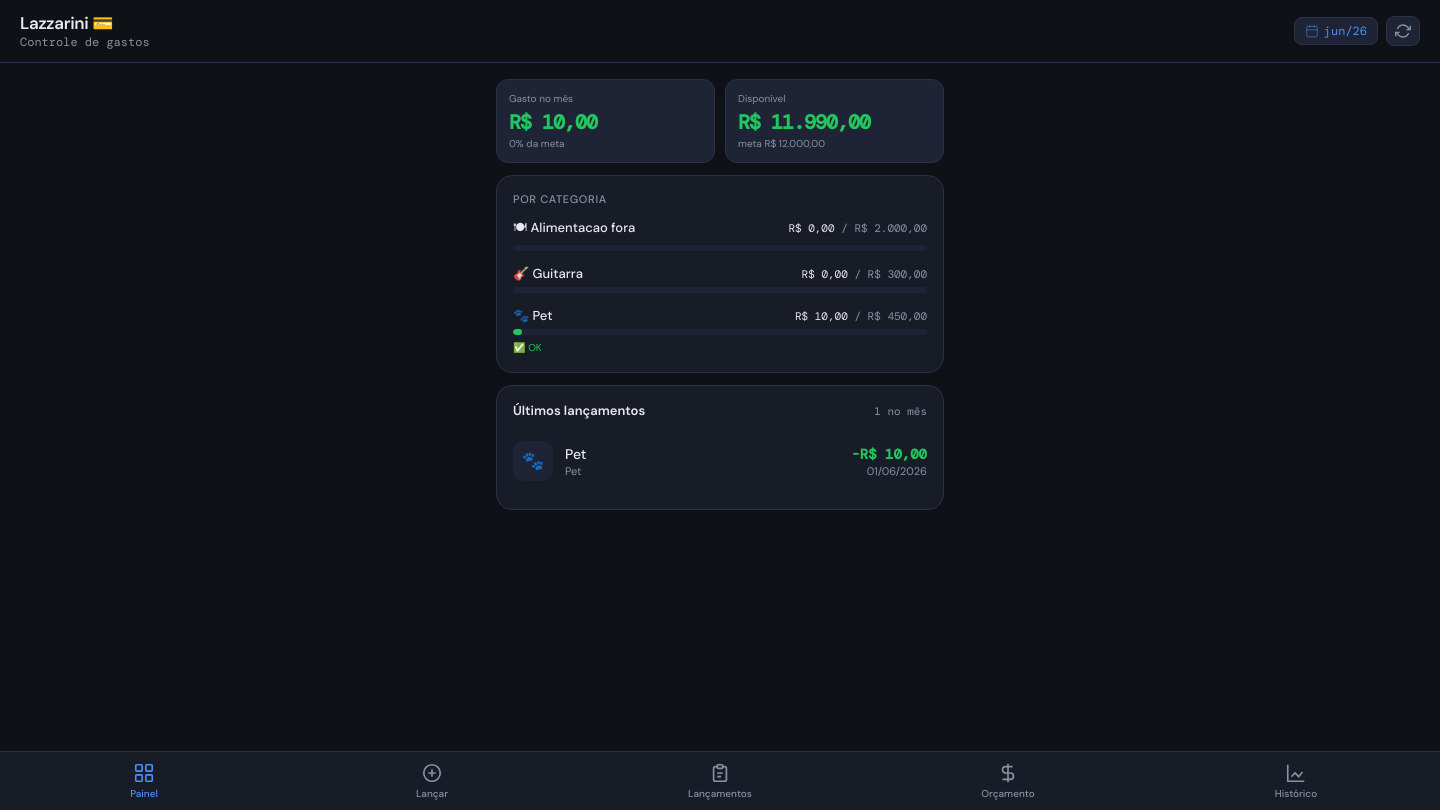
Lançamentos › excluir pela lixeira não abre o detalhe; erro mostra toast
The width and height of the screenshot is (1440, 810).
Expected: the text "Por categoria" is shown, left=513, top=192, right=607, bottom=206
Click the button "Lançamentos": (720,781) left=576, top=752, right=864, bottom=809
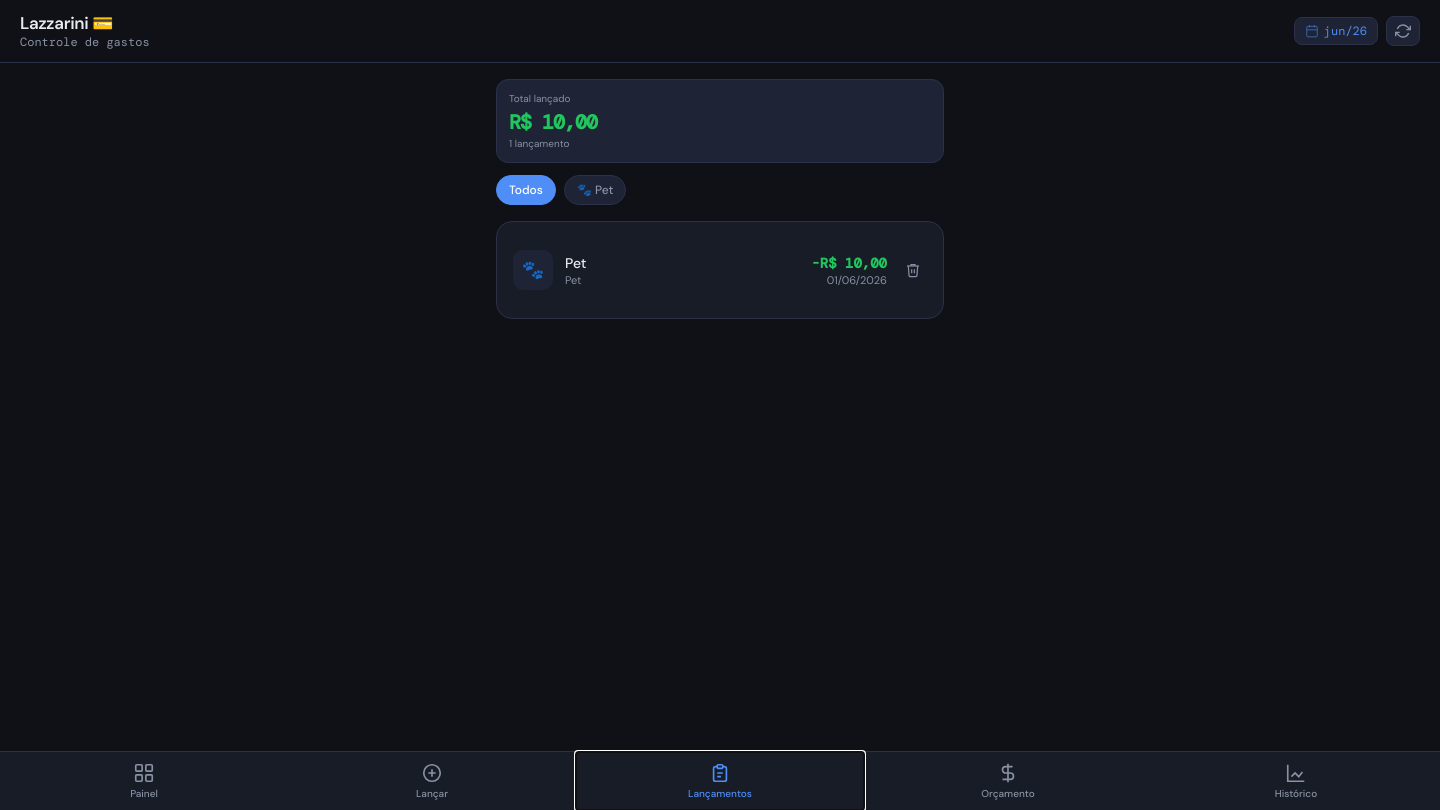
Click the button named "Excluir": (913,270) left=899, top=256, right=927, bottom=284
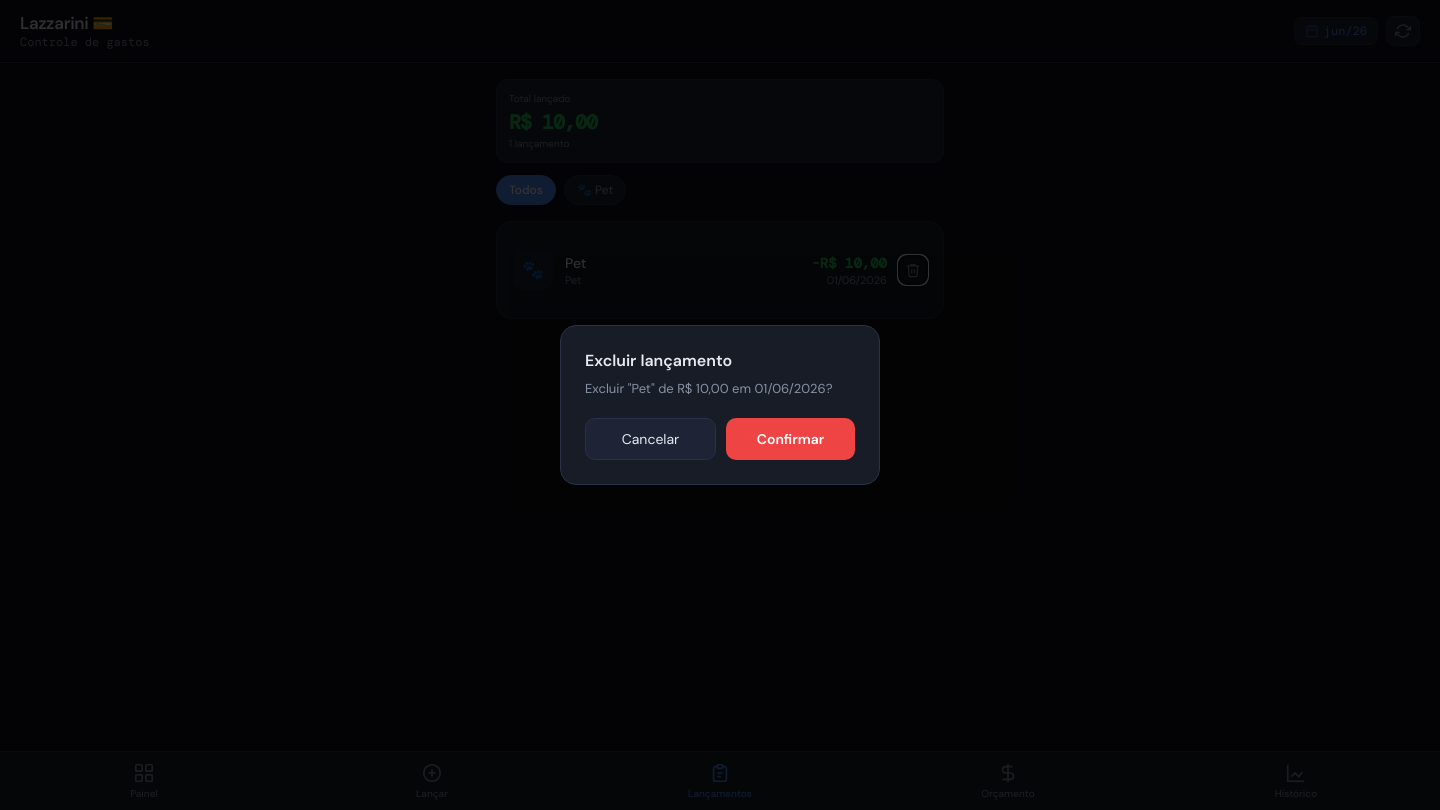
Click the button "Confirmar": (790,439) left=726, top=418, right=855, bottom=460
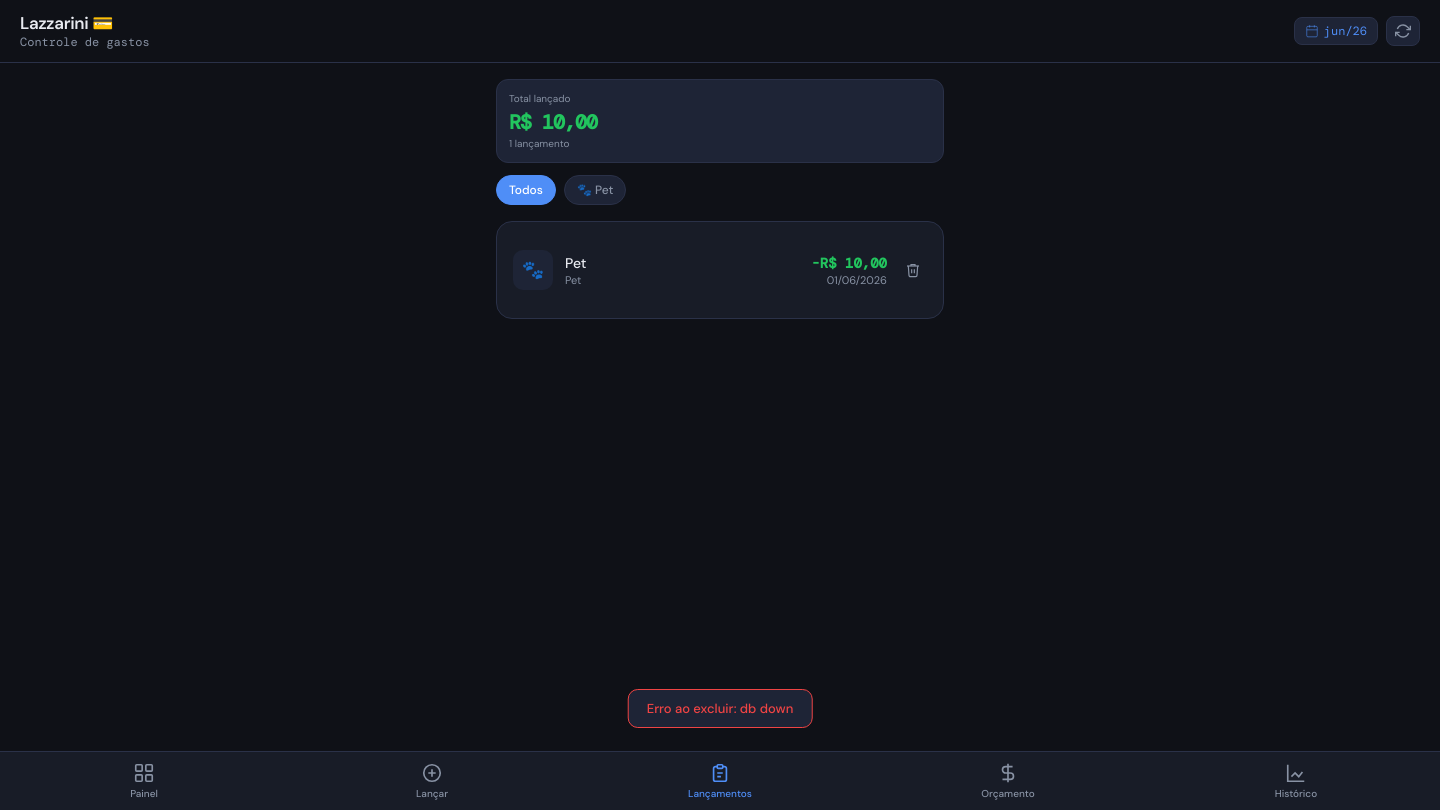
Expected: the message reads "Erro ao excluir: db down", left=647, top=700, right=793, bottom=717
